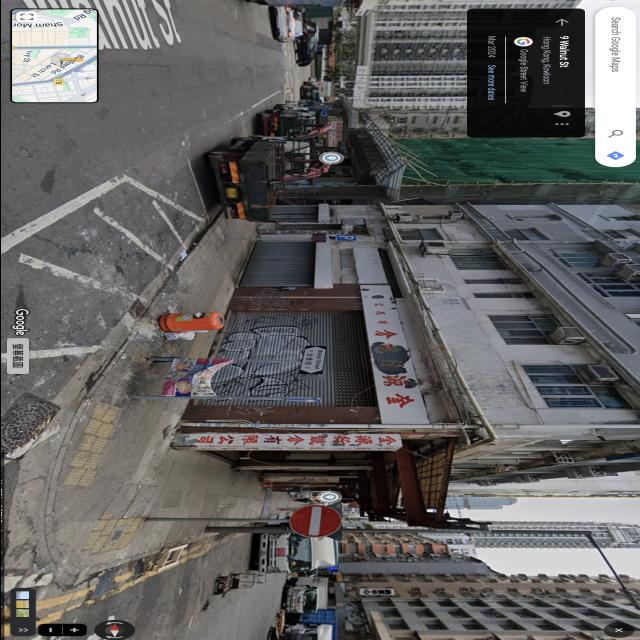Order-Sign: (291, 507, 343, 537)
Street-Direction-Sign: (298, 346, 325, 374)
